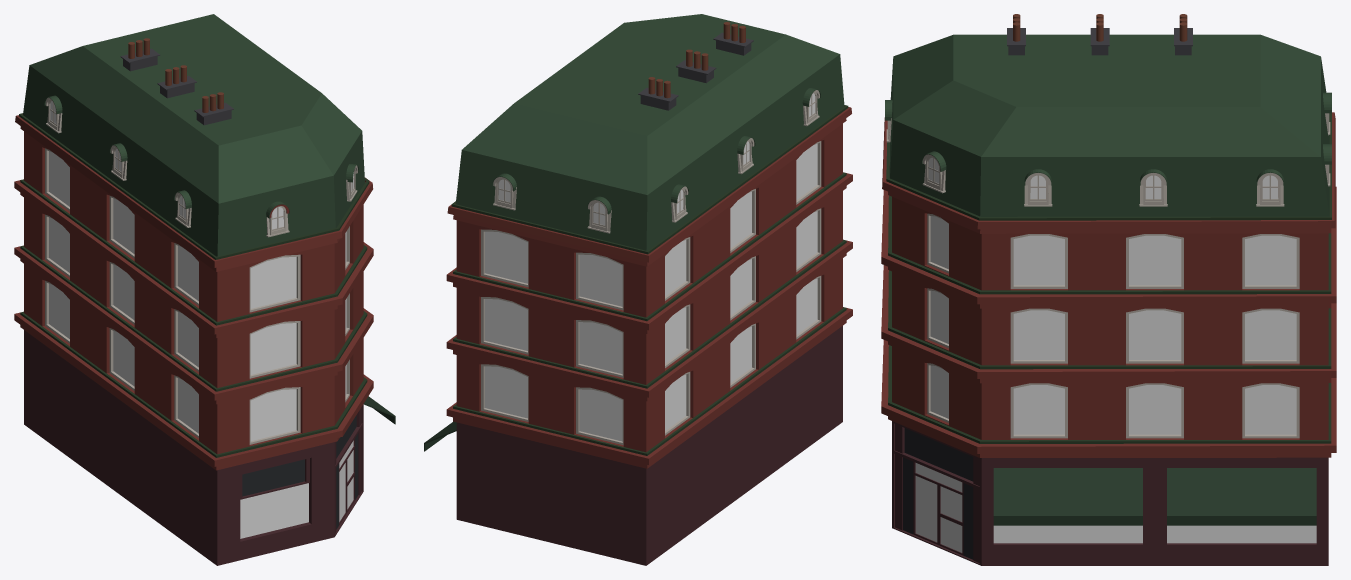
File: SM_elite_building_01_B.gltf
3 views of the same model, side by side, from view 1: azimuth 30°, elevation 25°; view 2: azimuth 150°, elevation 25°; view 3: azimuth 270°, elevation 25° (orthographic). The views are drawn at different scales.
Visible parts, largest first — view 1: SM_elite_building_01_B; view 2: SM_elite_building_01_B; view 3: SM_elite_building_01_B.
Boxes of the visible parts, bbox=[...] form: SM_elite_building_01_B: bbox=[14, 14, 395, 565]; SM_elite_building_01_B: bbox=[424, 14, 852, 565]; SM_elite_building_01_B: bbox=[881, 14, 1336, 565].
Size of the model in its own units: 3.08 by 5.34 by 4.67.
